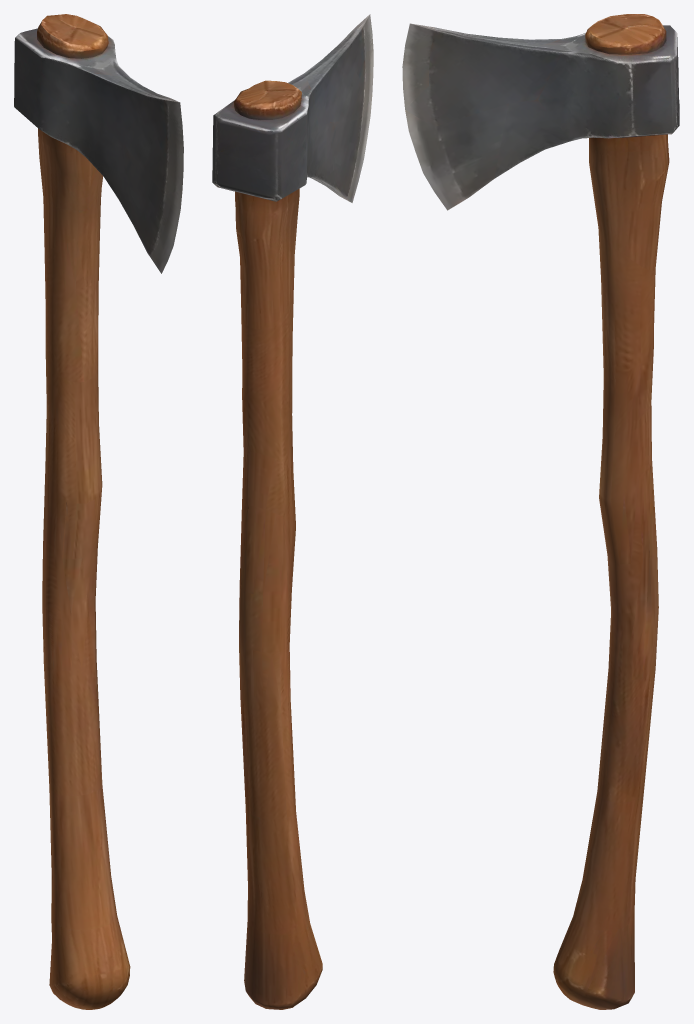
The model's file is axe.glb.
The picture shows the model from 3 angles, left to right: view 1: azimuth 30°, elevation 25°; view 2: azimuth 150°, elevation 25°; view 3: azimuth 270°, elevation 25°; orthographic projection. The views are drawn at different scales.
Parts seen in each view (by area): view 1: tripo_node_0f720c07-949c-4904-a105-1f8ea9210350; view 2: tripo_node_0f720c07-949c-4904-a105-1f8ea9210350; view 3: tripo_node_0f720c07-949c-4904-a105-1f8ea9210350.
Boxes of the visible parts, left/top/right/bottom form: tripo_node_0f720c07-949c-4904-a105-1f8ea9210350: left=14, top=14, right=183, bottom=1009; tripo_node_0f720c07-949c-4904-a105-1f8ea9210350: left=212, top=14, right=373, bottom=1009; tripo_node_0f720c07-949c-4904-a105-1f8ea9210350: left=402, top=14, right=679, bottom=1009.
Size of the model in its own units: 0.0776 by 1 by 0.2555.
1 material, 1 textured.
